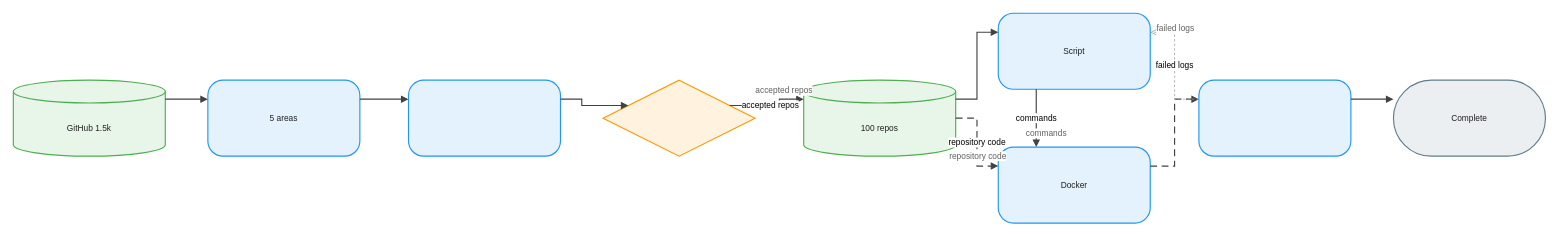
Some shapes in this 1560 by 237 pixel diagram are drawn without their labels. Here are the shapes that lost their labels. From the top down, the centre of each, then its label:
At [484,117]: "Star rank".
At [678,117]: "Manual QC".
At [1274,117]: "Logs".
